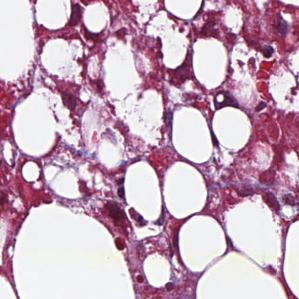ballooning: (143, 8, 193, 71)
